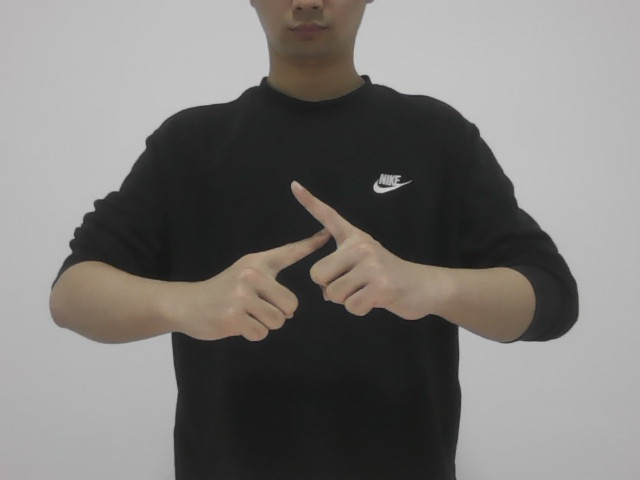peason: (194, 171, 413, 345)
